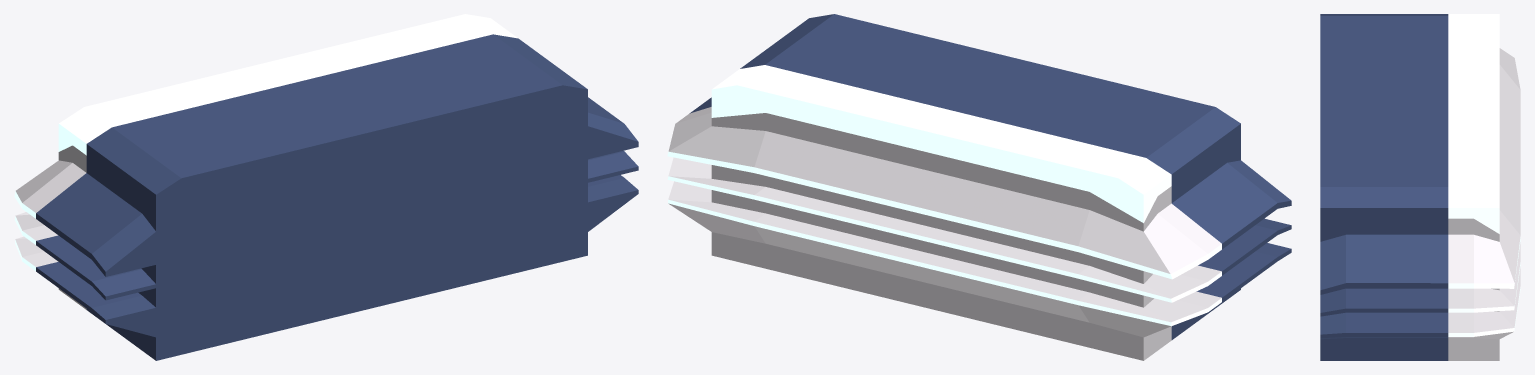
File: hallwayfloor_ledgebaked.fbx
The picture shows the model from 3 angles, left to right: view 1: azimuth 30°, elevation 25°; view 2: azimuth 150°, elevation 25°; view 3: azimuth 270°, elevation 25°; orthographic projection. The views are drawn at different scales.
Parts seen in each view (by area): view 1: HallFloorLEDGEPlat; view 2: HallFloorLEDGEPlat; view 3: HallFloorLEDGEPlat.
Boxes of the visible parts, bbox=[...] form: HallFloorLEDGEPlat: bbox=[14, 14, 638, 360]; HallFloorLEDGEPlat: bbox=[667, 14, 1291, 360]; HallFloorLEDGEPlat: bbox=[1320, 14, 1520, 360].
Size of the model in its own units: 632 by 200 by 223.
